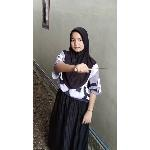Pisau: (70, 65, 116, 73)
